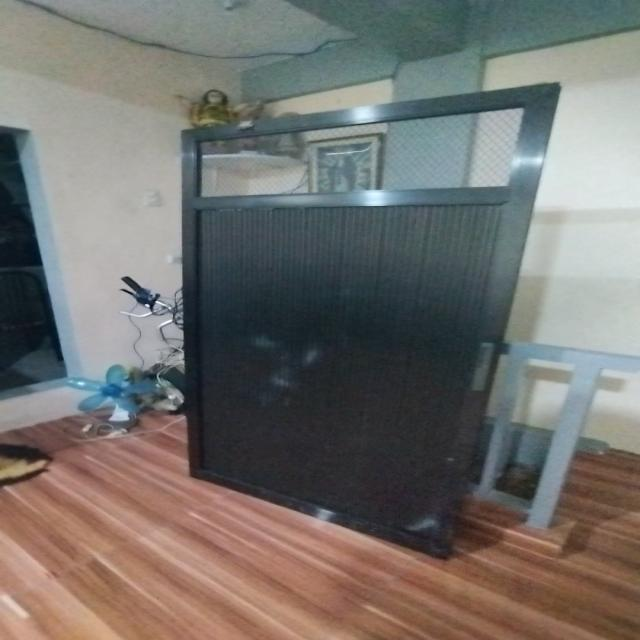door: (171, 77, 569, 564)
